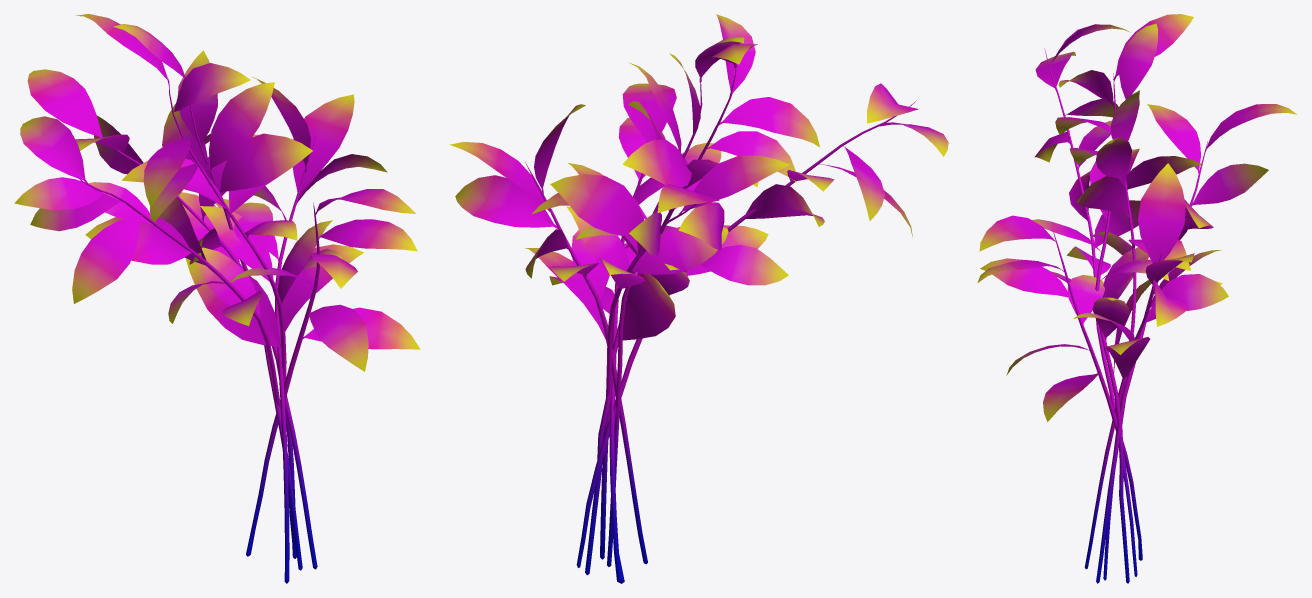
Rendered from Flowers02.fbx.
3 views of the same model, side by side, from view 1: azimuth 30°, elevation 25°; view 2: azimuth 150°, elevation 25°; view 3: azimuth 270°, elevation 25° (orthographic). The views are drawn at different scales.
Visible parts, largest first — view 1: flowers02; view 2: flowers02; view 3: flowers02.
Part boxes in pixels (bbox=[...]): flowers02: bbox=[14, 14, 420, 583]; flowers02: bbox=[449, 14, 948, 583]; flowers02: bbox=[977, 14, 1296, 583].
Bounding box in the file's own units: 373 × 480 × 283.
